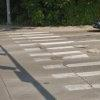Crosswalk: (8, 25, 88, 97)
